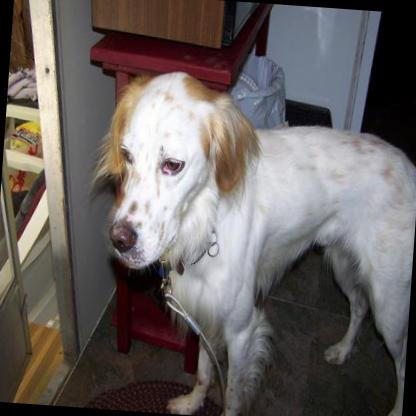English_setter: (88, 65, 416, 416)
